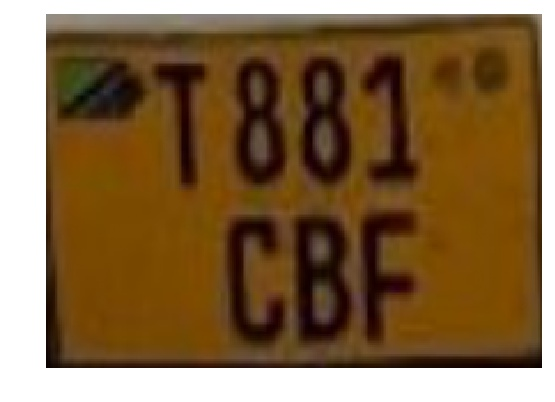T: (147, 53, 223, 196)
